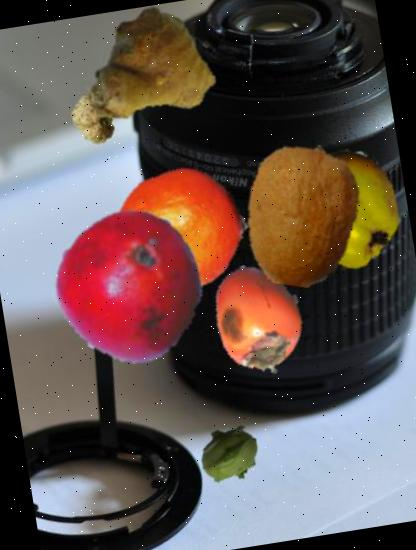Cauliflower: (69, 83, 132, 146)
Clementine: (106, 154, 258, 306)
Ginger: (76, 2, 224, 150)
Kaki: (196, 255, 324, 384)
Kiwi: (222, 133, 386, 297)
Kohlrabi: (195, 419, 266, 490)
Pomegranate: (46, 199, 218, 371)
Quince: (278, 139, 413, 274)
